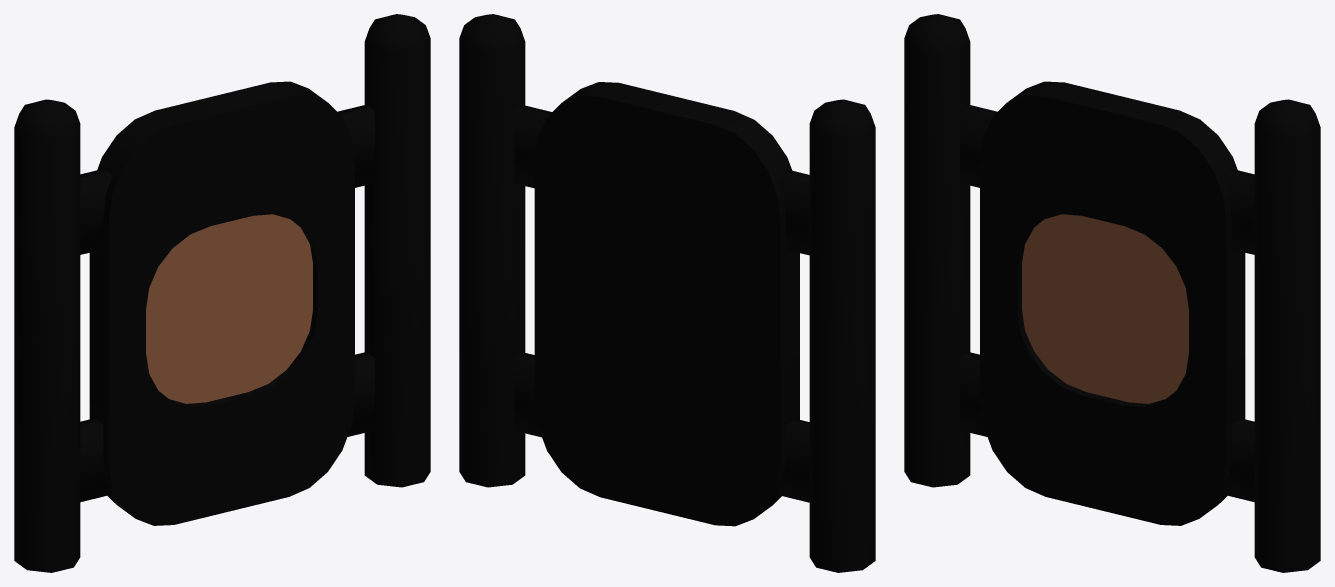
The model's file is billboard.glb.
The picture shows the model from 3 angles, left to right: view 1: azimuth 30°, elevation 25°; view 2: azimuth 150°, elevation 25°; view 3: azimuth 330°, elevation 25°; orthographic projection.
Parts seen in each view (by area): view 1: billboard; view 2: billboard; view 3: billboard.
Boxes of the visible parts, <box> form: billboard: <box>14,14,430,572</box>; billboard: <box>459,14,875,572</box>; billboard: <box>904,14,1320,572</box>.
Size of the model in its own units: 1.09 by 1.18 by 0.1444.
Materials: 1 (1 with a texture image).
